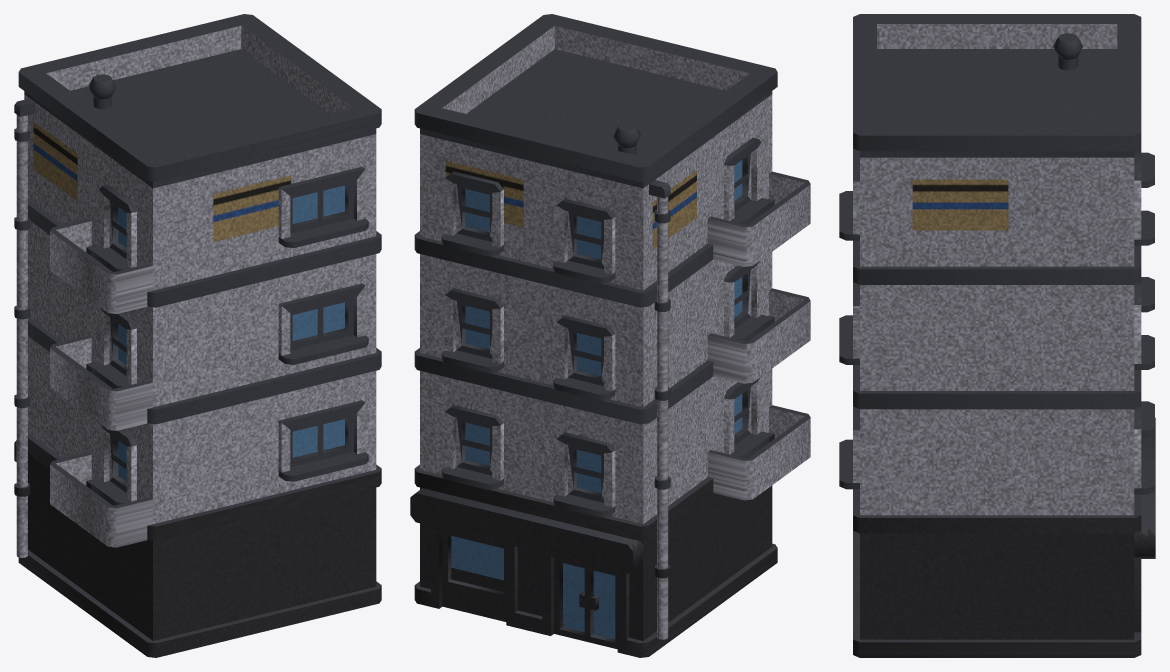
File: building-g-white-scuffed.glb
The picture shows the model from 3 angles, left to right: view 1: azimuth 30°, elevation 25°; view 2: azimuth 150°, elevation 25°; view 3: azimuth 270°, elevation 25°; orthographic projection. The views are drawn at different scales.
Parts seen in each view (by area): view 1: building-g-white-scuffed; view 2: building-g-white-scuffed; view 3: building-g-white-scuffed.
Part boxes in pixels (x1=…): building-g-white-scuffed: x1=14, y1=14, x2=381, y2=657; building-g-white-scuffed: x1=410, y1=14, x2=810, y2=657; building-g-white-scuffed: x1=839, y1=14, x2=1155, y2=657.
Size of the model in its own units: 0.97 by 1.69 by 0.922.
1 material, 1 textured.
